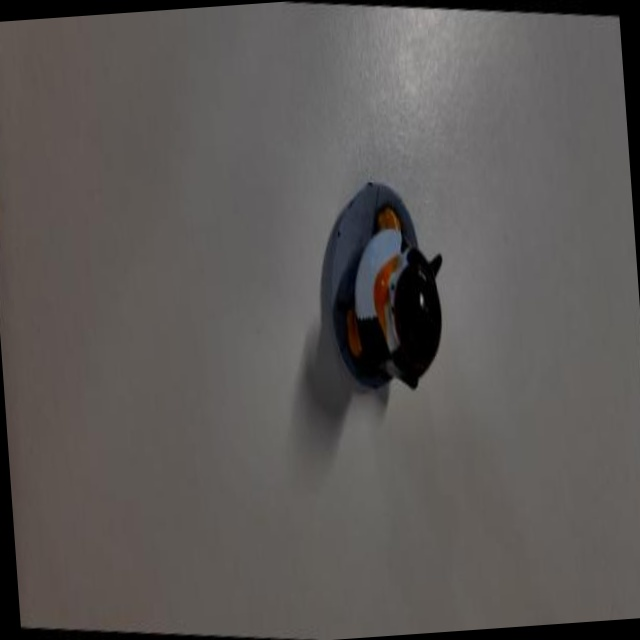Penguin: (303, 141, 462, 425)
